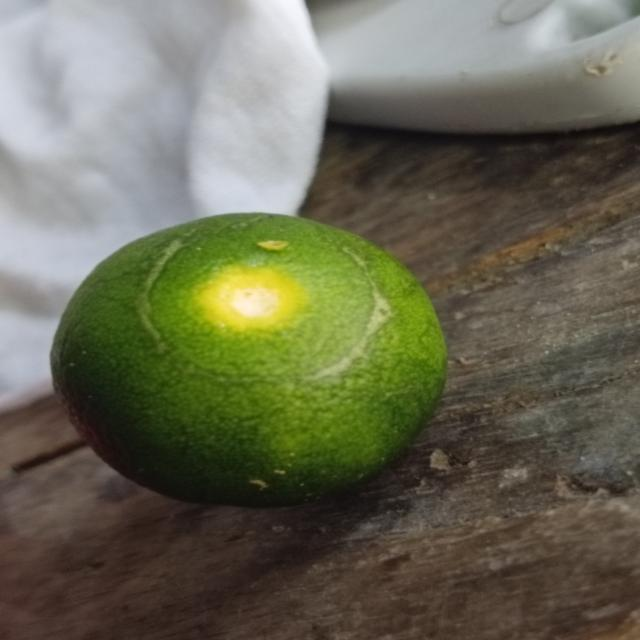thrips: (45, 213, 446, 504)
